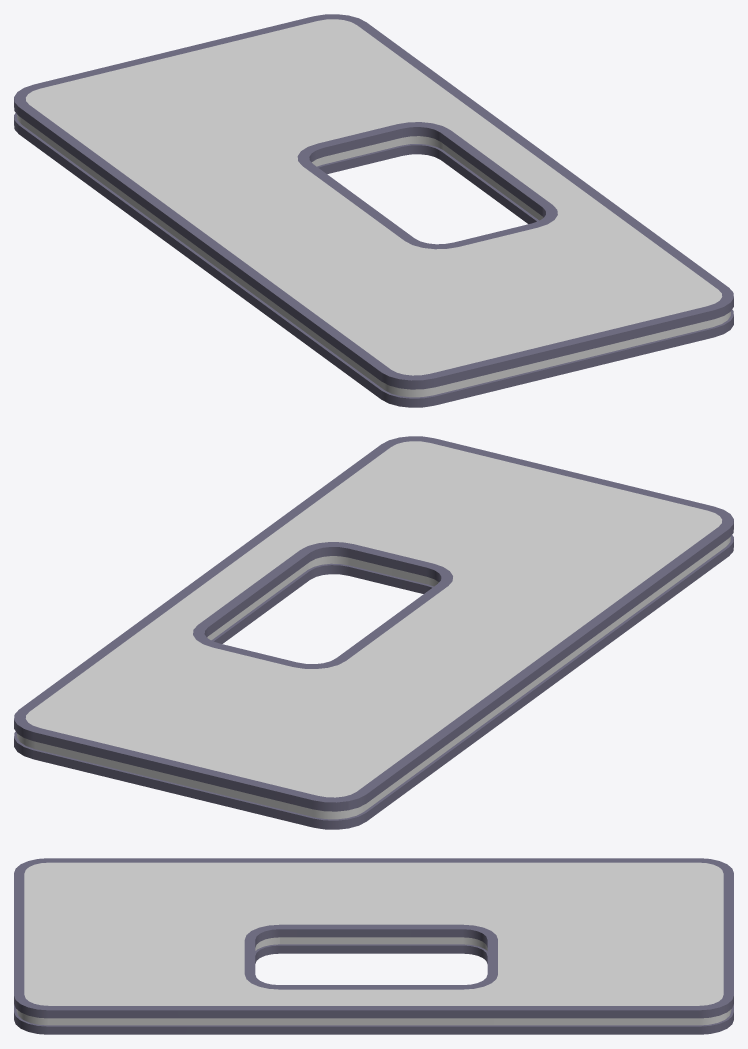
Rendered from env_undergroundstation_concreteplatform05.fbx.
3 views of the same model, one above another, from view 1: azimuth 30°, elevation 25°; view 2: azimuth 150°, elevation 25°; view 3: azimuth 270°, elevation 25° (orthographic). The views are drawn at different scales.
Visible parts, largest first — view 1: env_undergroundstation_concreteplatform05; view 2: env_undergroundstation_concreteplatform05; view 3: env_undergroundstation_concreteplatform05.
Part boxes in pixels (<box>): env_undergroundstation_concreteplatform05: <box>14,14,733,407</box>; env_undergroundstation_concreteplatform05: <box>14,436,733,829</box>; env_undergroundstation_concreteplatform05: <box>14,858,733,1034</box>.
Size of the model in its own units: 160 by 12 by 320.
